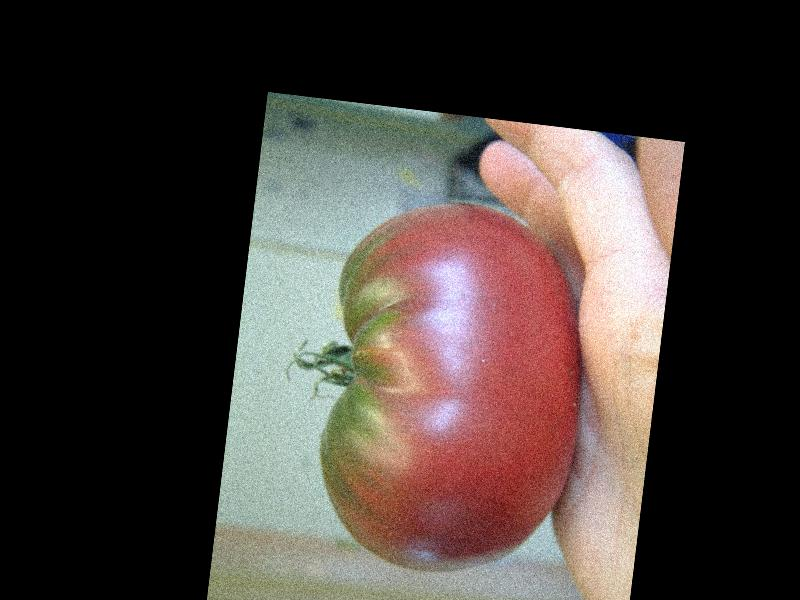Tomato: (305, 190, 602, 587)
